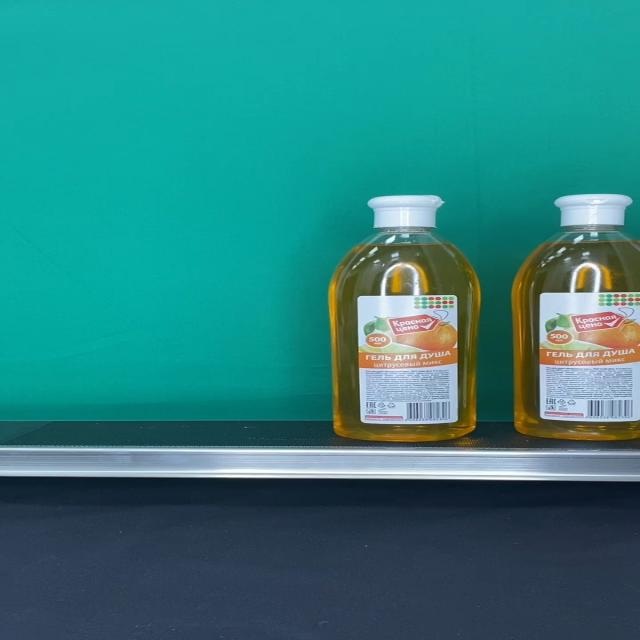Bottle: (330, 194, 483, 440), (513, 194, 640, 440)
Cap: (369, 195, 447, 229), (554, 194, 636, 226)
